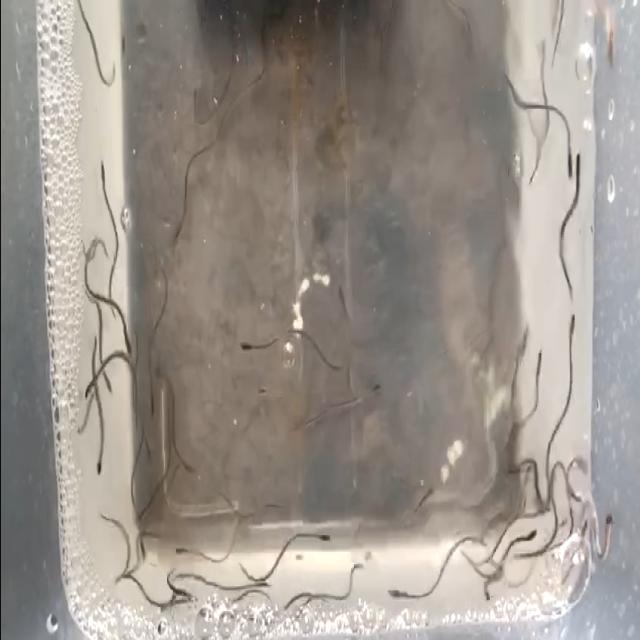inactive_glass_eel: (408, 482, 437, 512), (147, 371, 163, 418), (360, 378, 384, 408), (602, 15, 616, 65), (602, 495, 615, 546), (120, 320, 134, 366), (384, 582, 406, 611), (532, 344, 550, 379), (235, 329, 261, 353), (172, 532, 192, 562), (576, 452, 592, 489), (90, 440, 104, 482), (101, 361, 117, 397), (564, 136, 574, 192), (134, 496, 154, 524), (254, 567, 273, 596), (563, 478, 581, 508), (565, 308, 579, 346), (574, 514, 588, 552), (98, 155, 112, 193), (518, 526, 536, 552), (180, 452, 196, 481), (482, 579, 494, 615), (336, 284, 350, 314), (537, 34, 551, 64), (136, 534, 150, 562), (574, 143, 584, 181), (253, 381, 270, 401), (314, 528, 329, 550)
